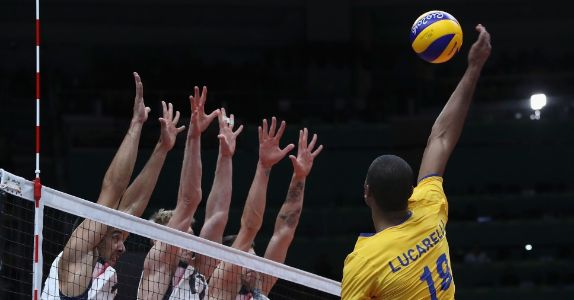voleibol: (410, 11, 463, 64)
